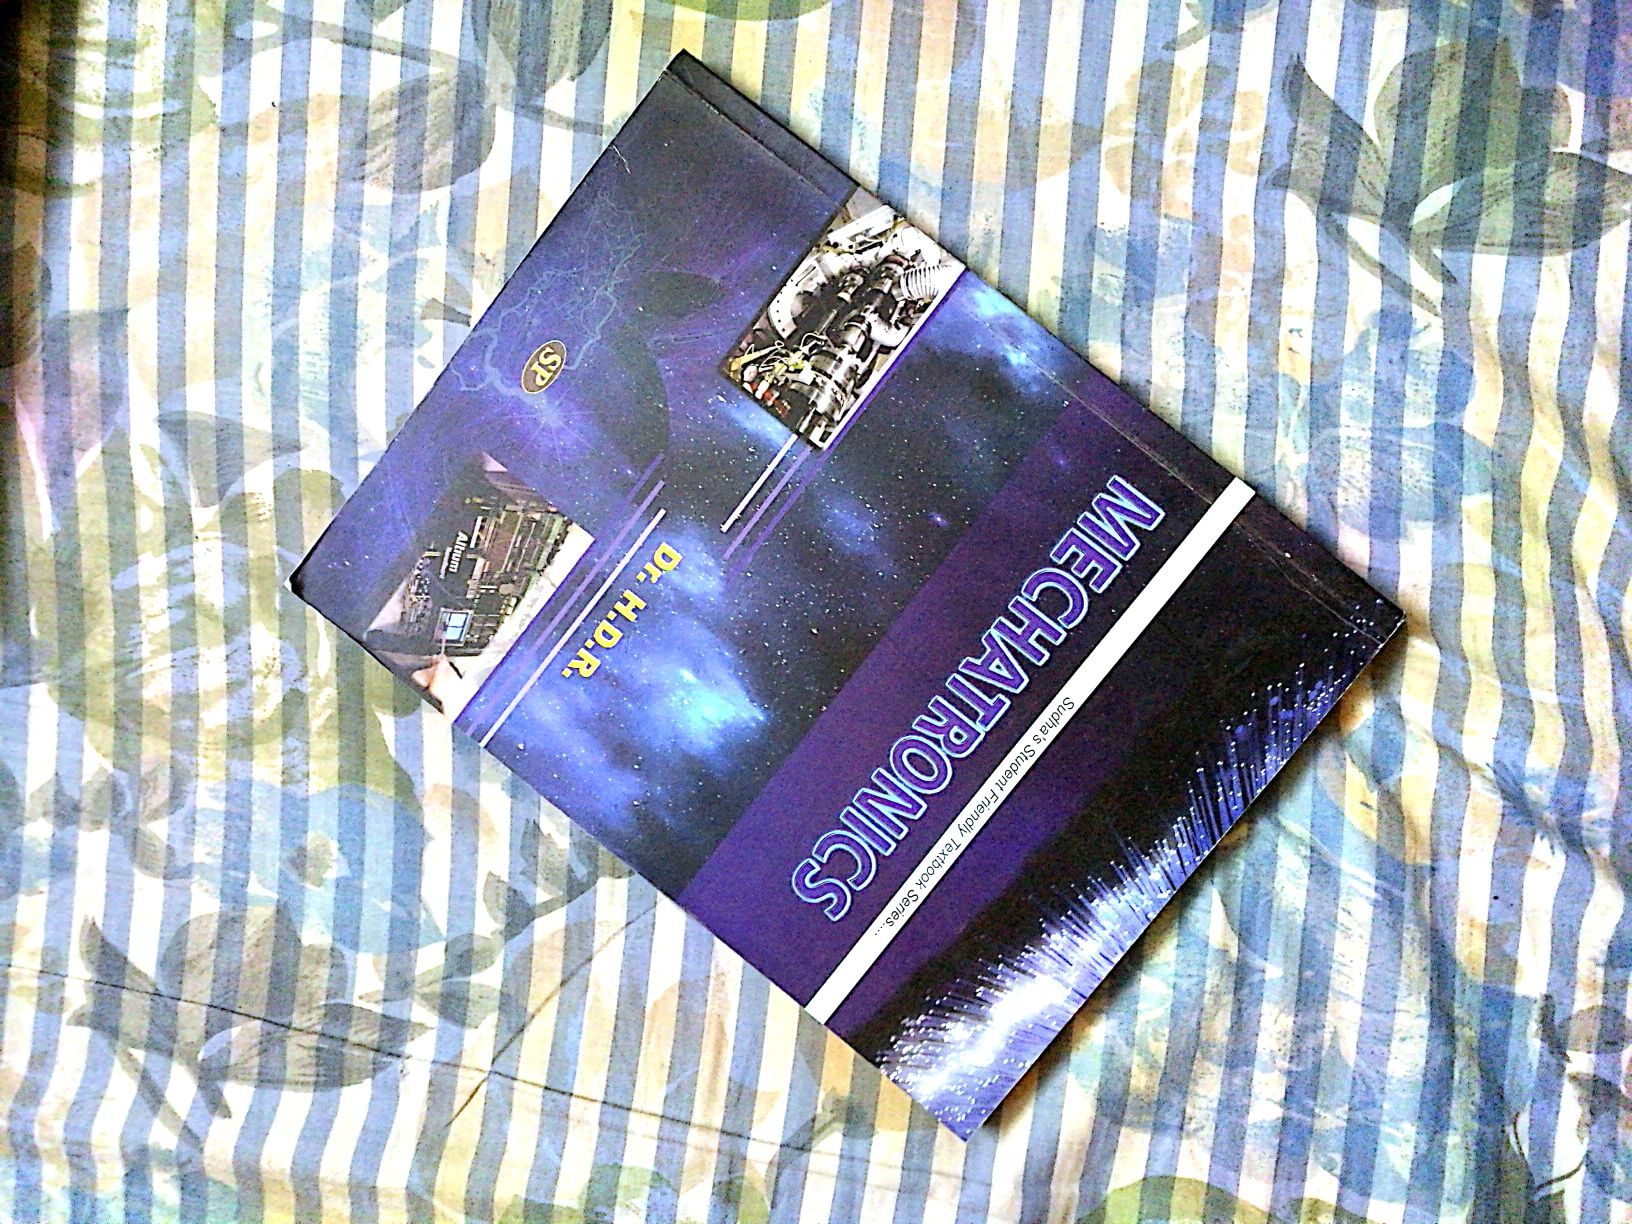mechatronics: (305, 72, 1414, 1085)
